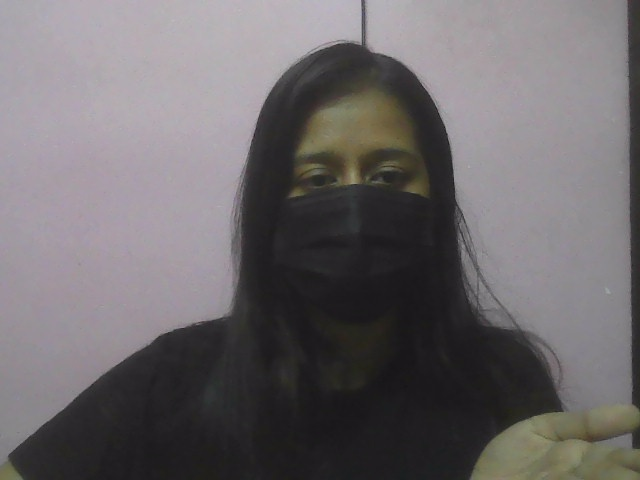Thank you: (435, 373, 639, 479)
